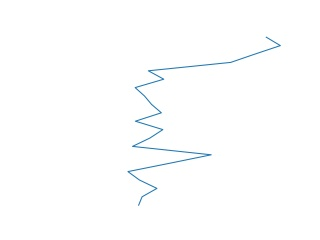crevasseRiverChannelBar: (124, 34, 285, 209)
